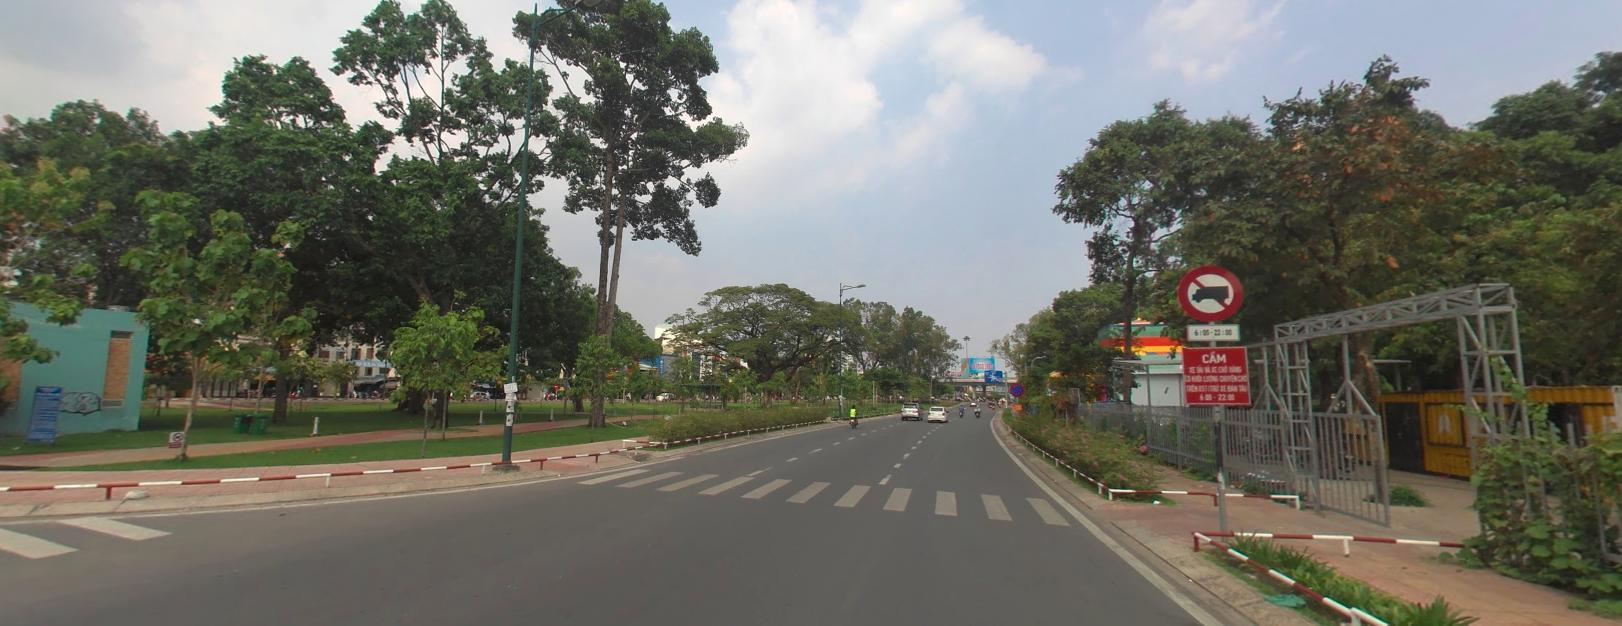Cam con lai: (1178, 265, 1241, 319)
Cam dung va do: (1009, 382, 1024, 395)
